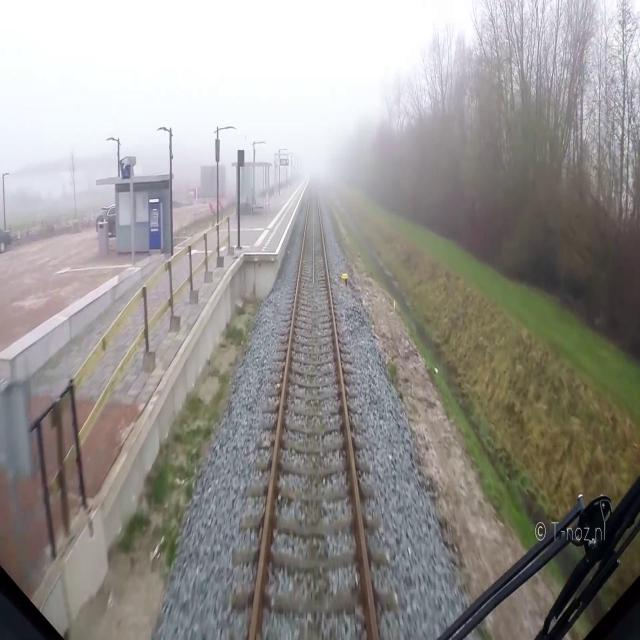rail-track: (253, 180, 374, 639)
